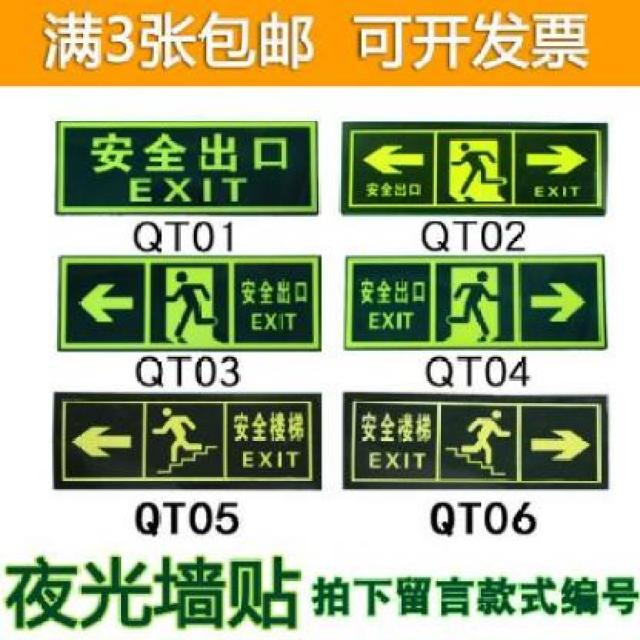exit_sign: (43, 384, 325, 494), (337, 252, 611, 355), (334, 388, 610, 490), (55, 252, 321, 351), (337, 115, 608, 212), (57, 116, 315, 214)
